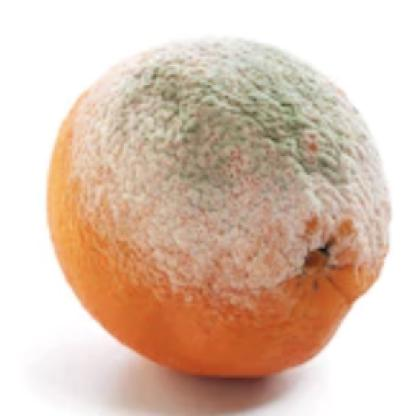rotten: (45, 36, 394, 377)
